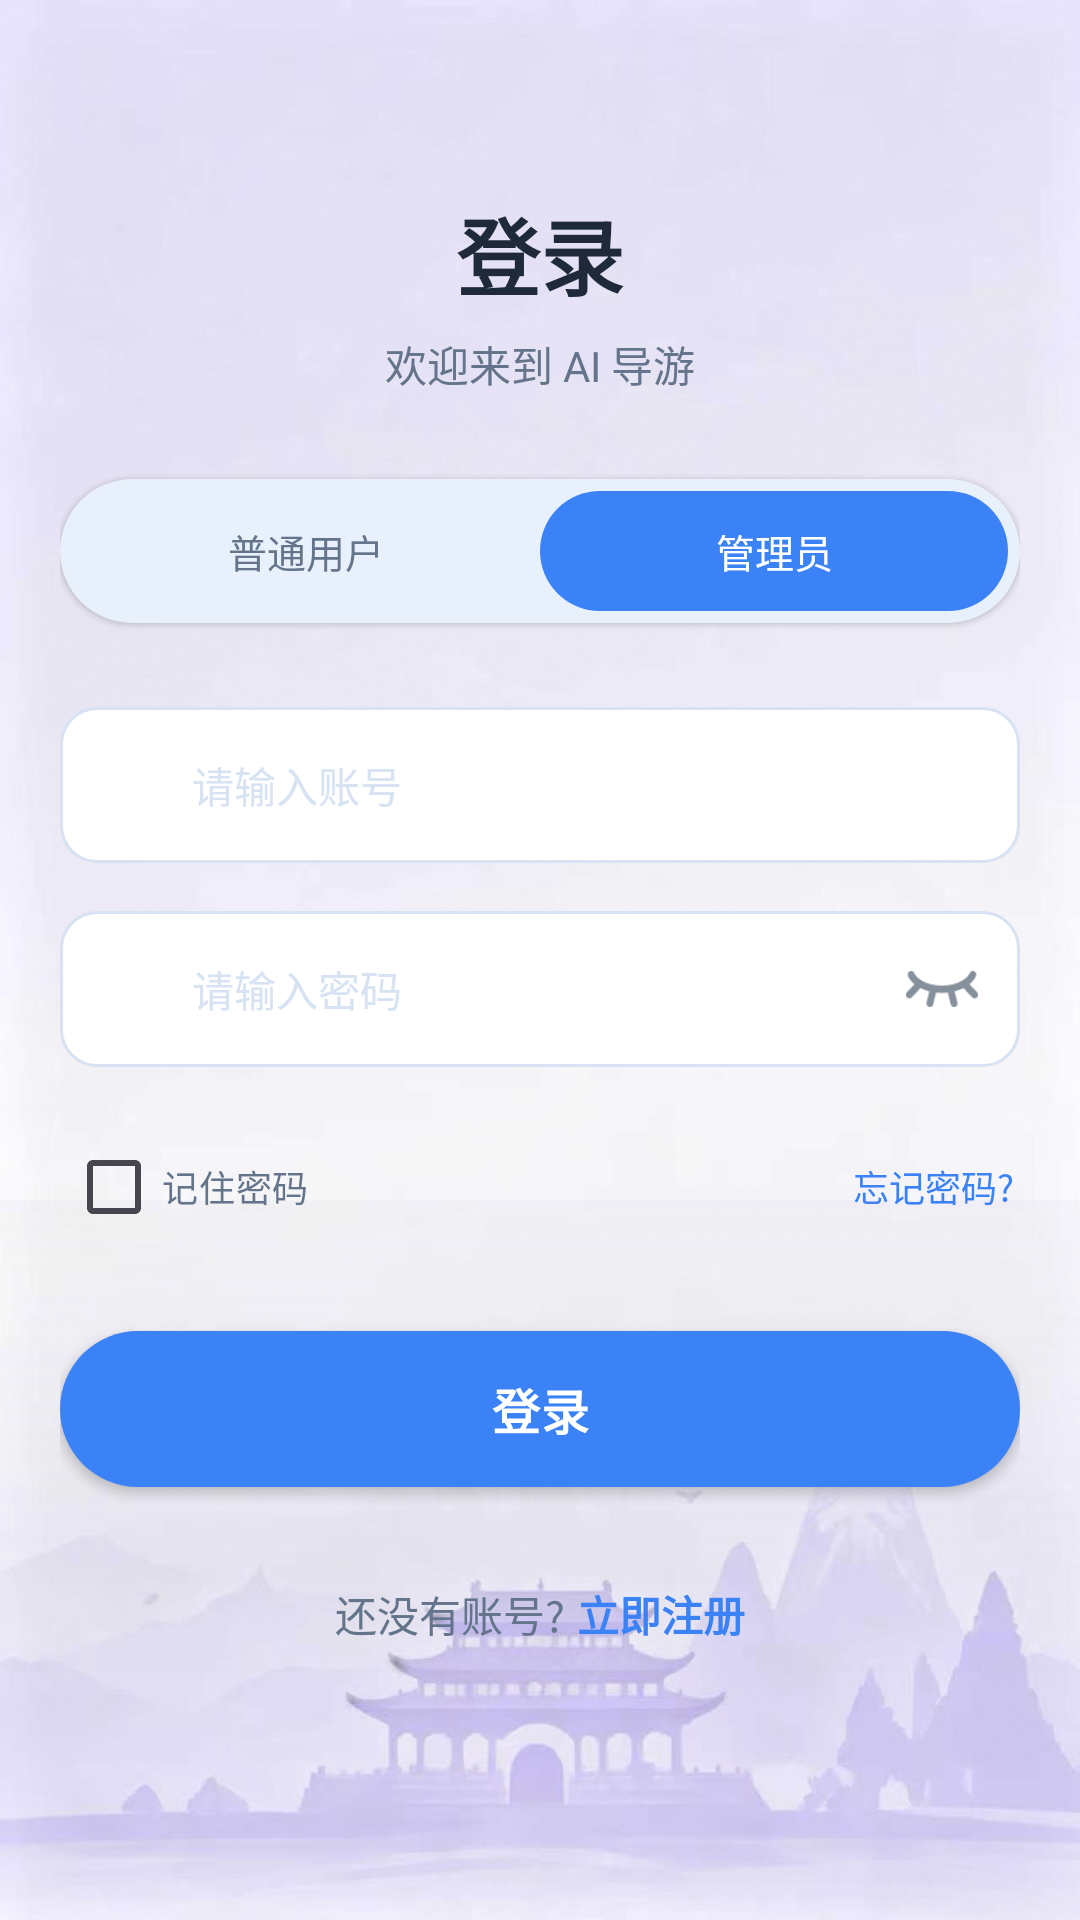

Icons on this 1080x1920 Android screen, each with its box as {"left": x1, "top": y1, "right": x2, "bottom": y2}:
切换密码可见性: {"left": 906, "top": 971, "right": 978, "bottom": 1007}
